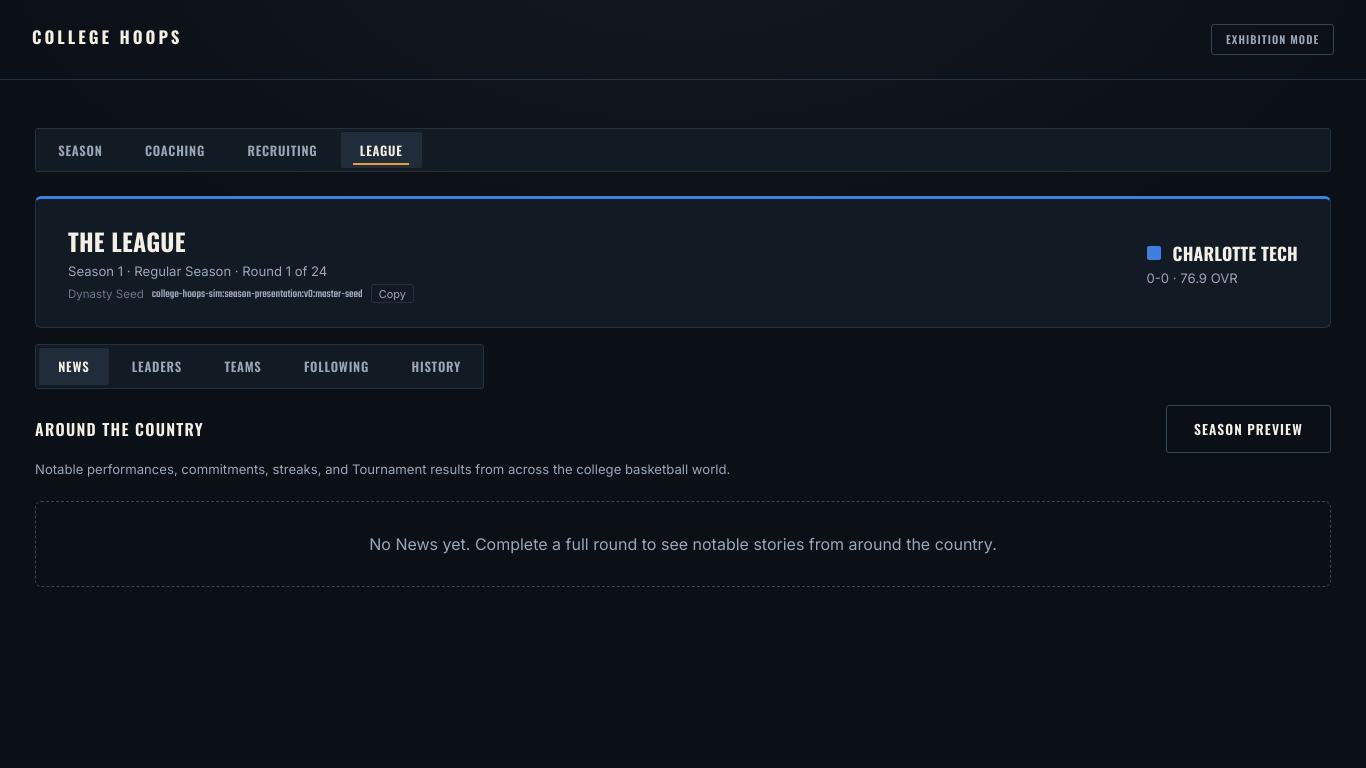
Test: National Leaders › shows a clear empty state before any regular-season game completes
Click the button "Leaders": (157, 367) [113,348,201,385]
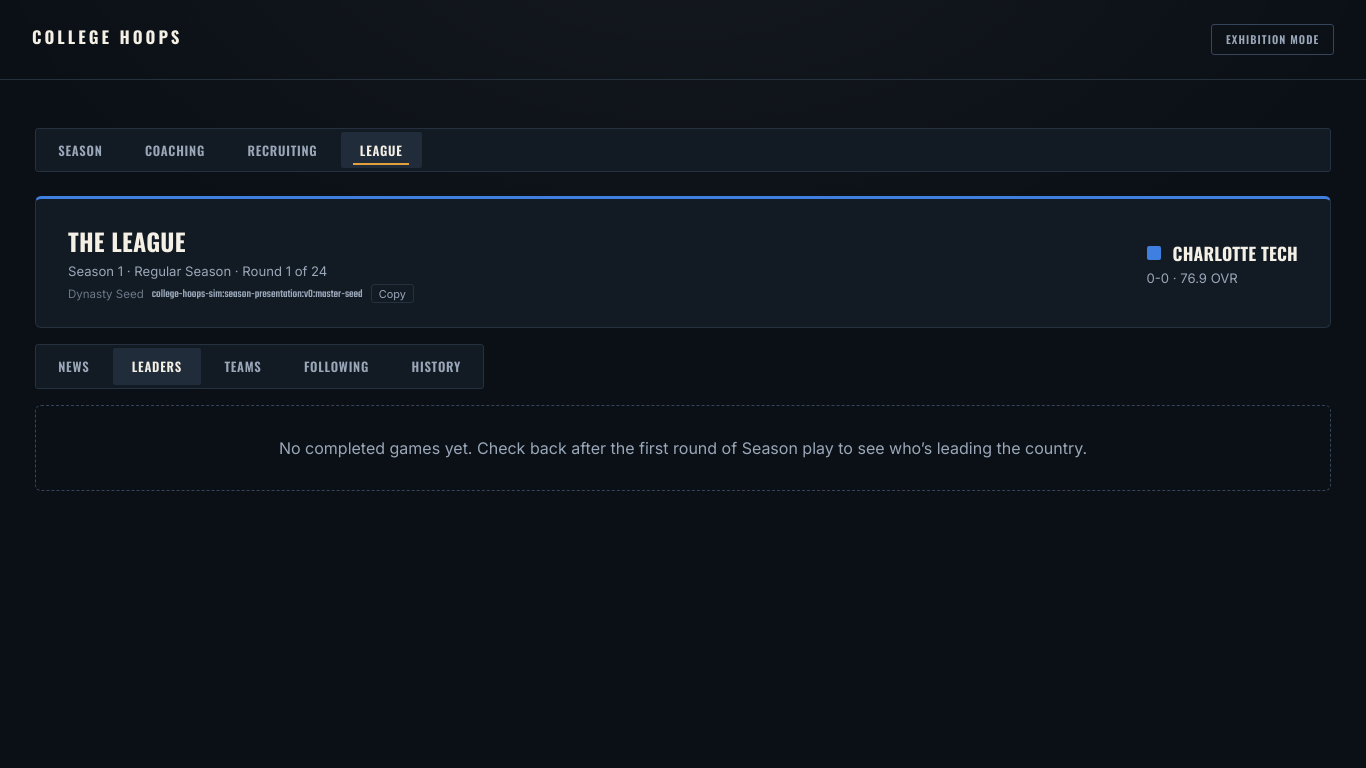
Result: the text "No completed games yet" is shown at [279,438,1087,458]
